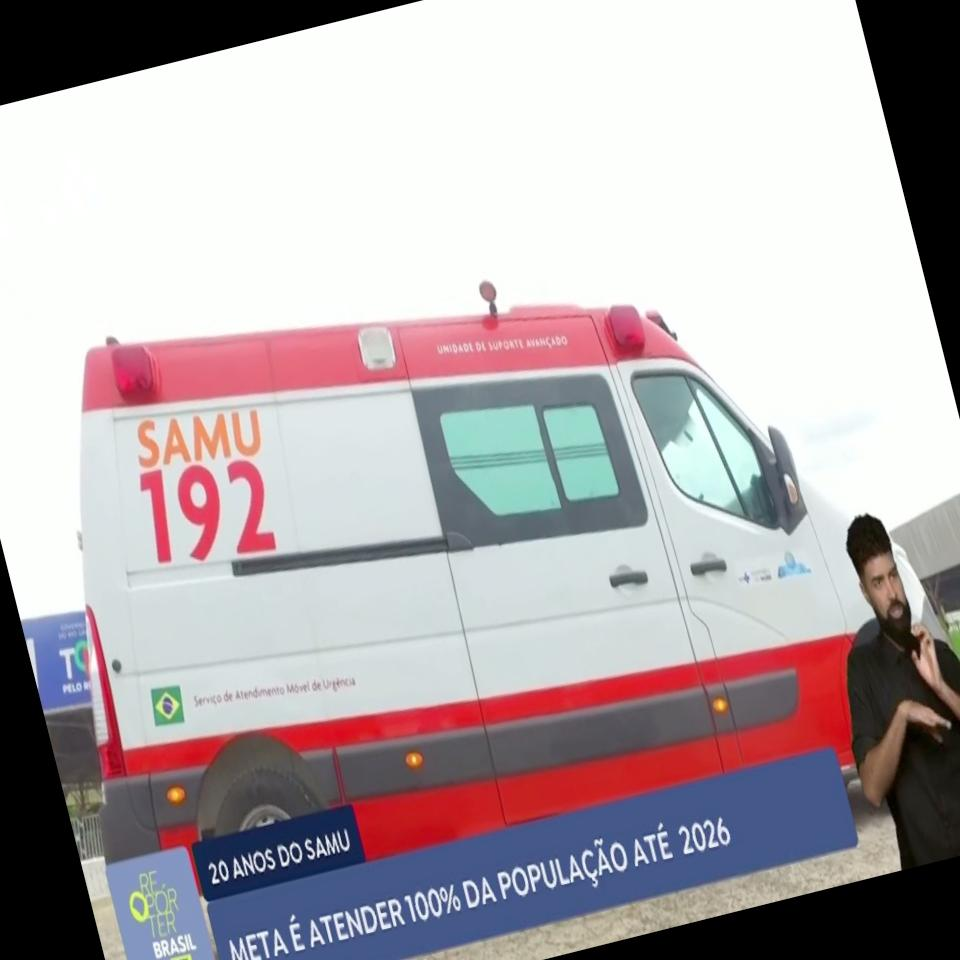bombeiro: (0, 188, 864, 945)
